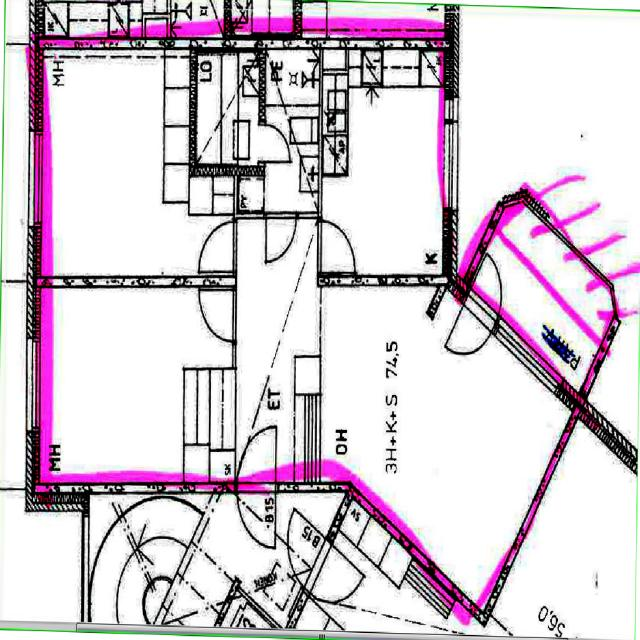door: (463, 247, 516, 331), (444, 288, 498, 370), (236, 426, 275, 492), (236, 482, 275, 547), (317, 220, 357, 272), (197, 289, 236, 341), (198, 222, 236, 271), (266, 212, 296, 262), (258, 125, 290, 162)
